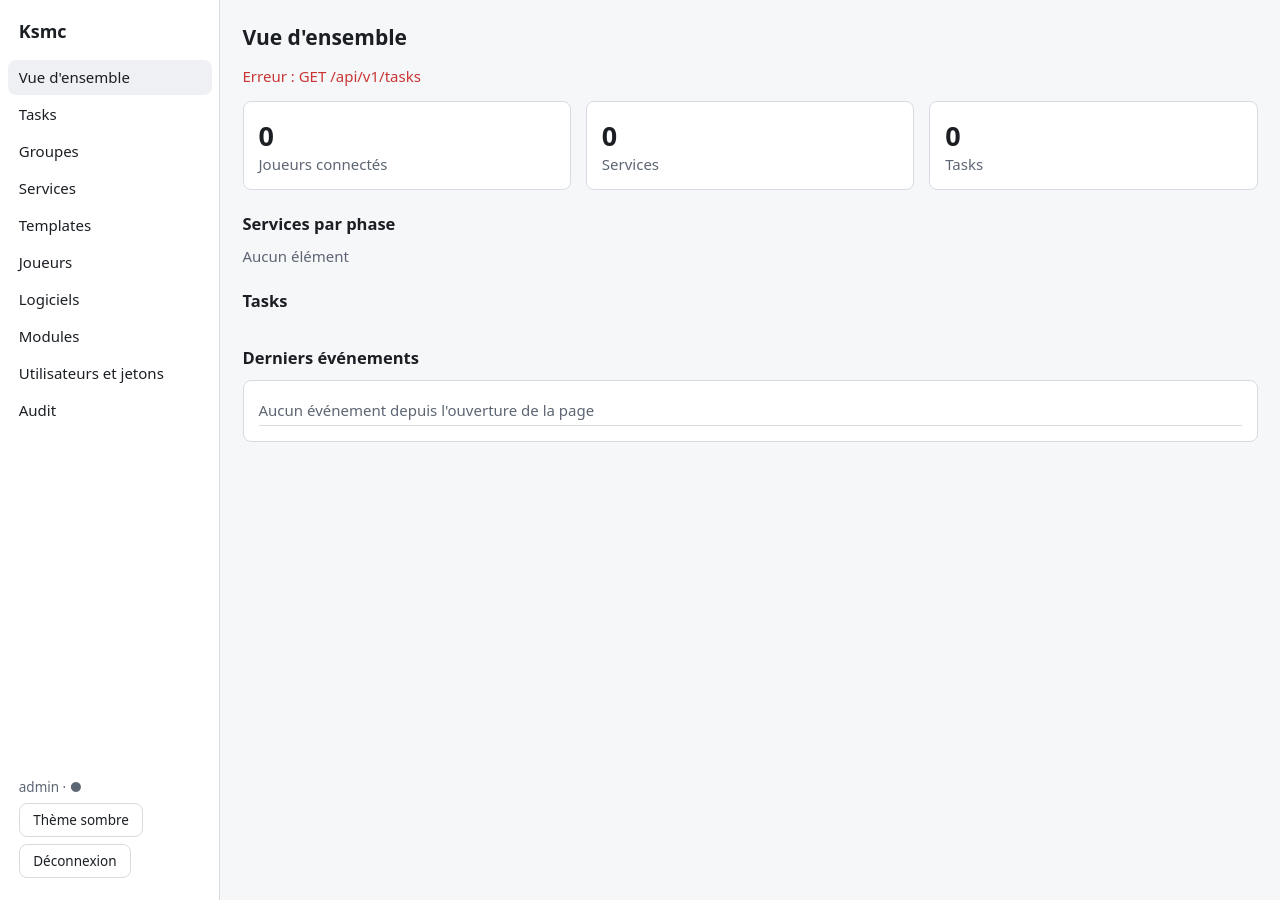
Scenario: authentification › déconnecte
The image size is (1280, 900).
Click the button "Déconnexion" at (75, 861), box top-left (19, 844), bottom-right (131, 878)
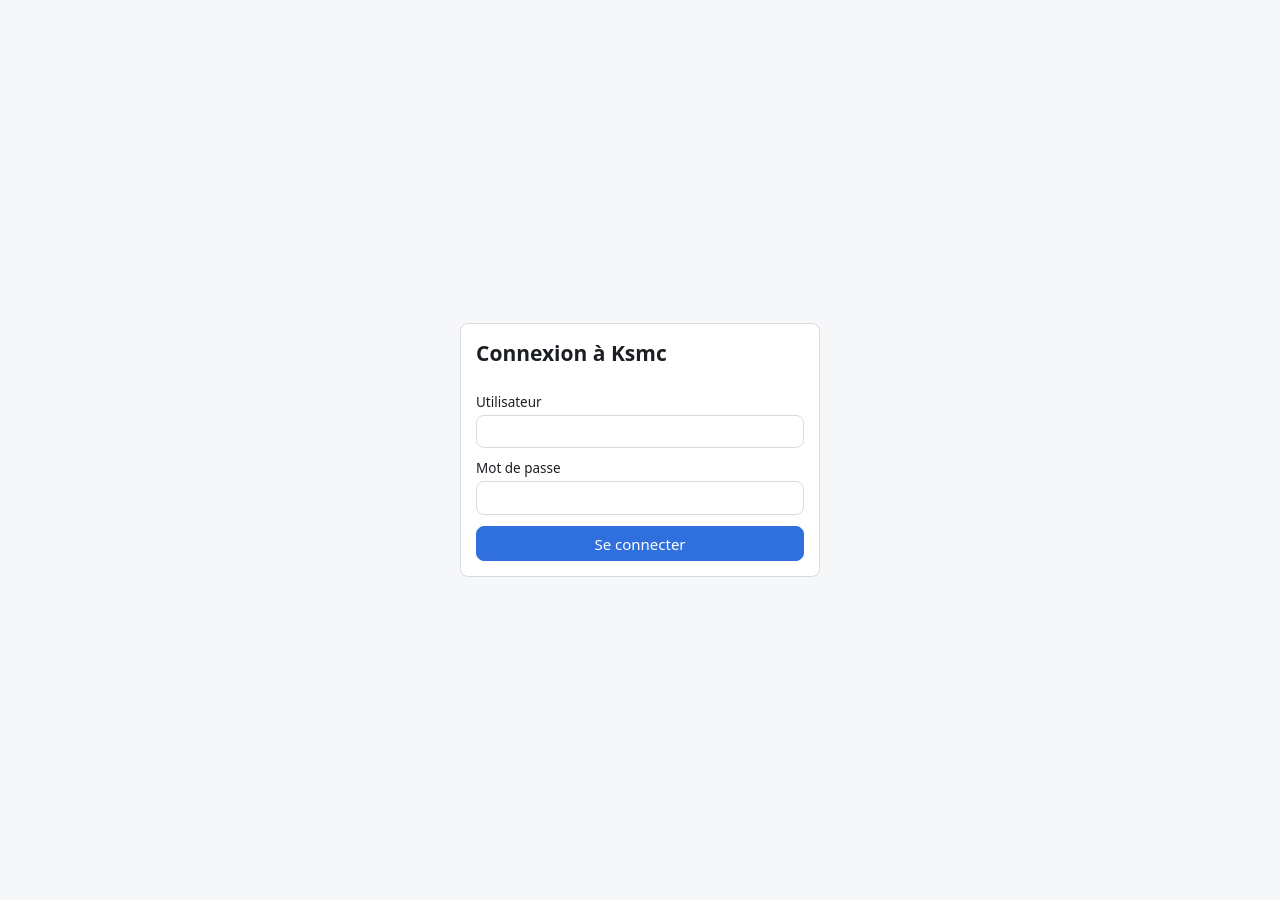
Now the button "Se connecter" is shown, box top-left (476, 526), bottom-right (804, 561)
